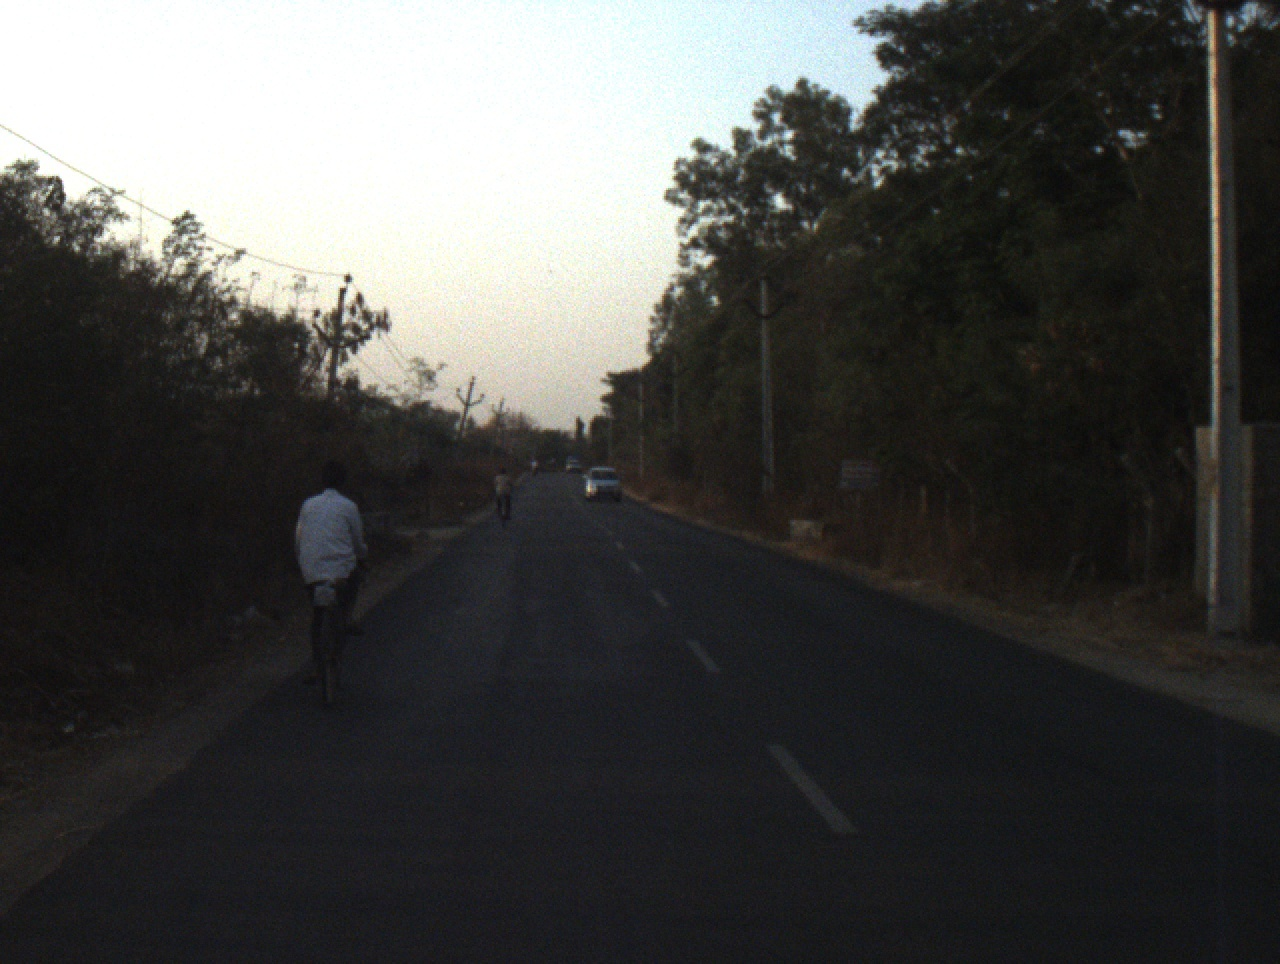autorickshaw: (541, 455, 557, 475)
bicycle: (307, 580, 347, 709), (495, 497, 510, 527)
car: (583, 464, 624, 500), (565, 451, 582, 473)
motorcycle: (530, 467, 538, 476)
rider: (294, 461, 374, 689), (493, 466, 516, 523), (530, 458, 538, 473)
